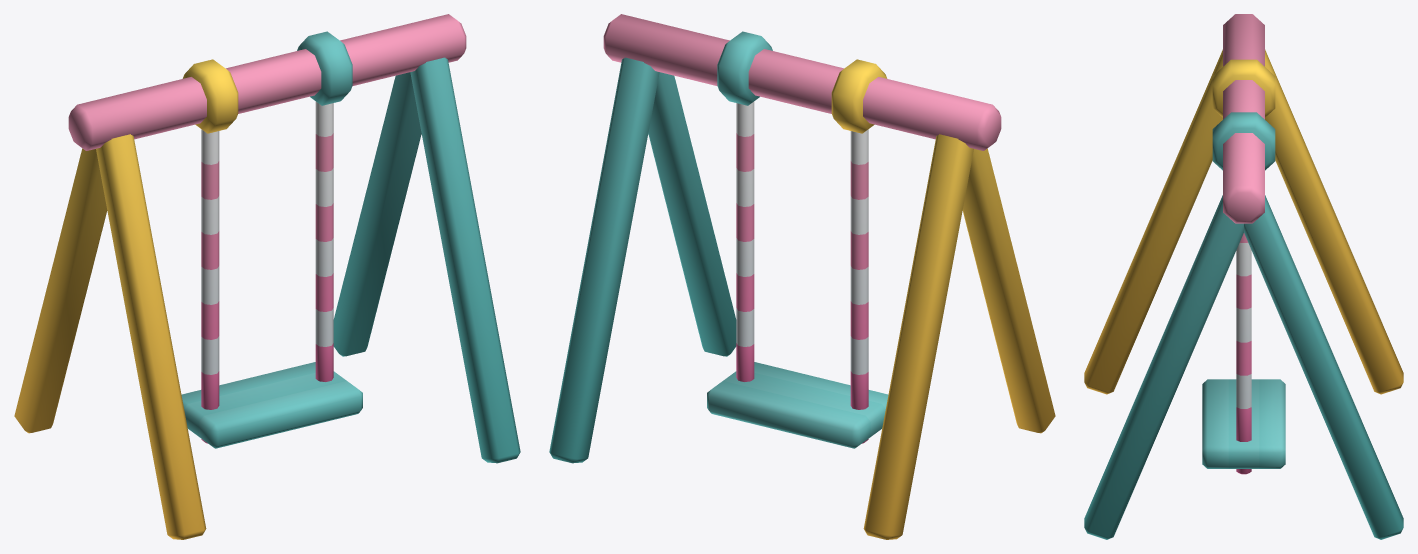
File: swing_B_small.glb
3 views of the same model, side by side, from view 1: azimuth 30°, elevation 25°; view 2: azimuth 150°, elevation 25°; view 3: azimuth 270°, elevation 25° (orthographic). The views are drawn at different scales.
Visible parts, largest first — view 1: swing_B_small, swing_B_small_seat; view 2: swing_B_small, swing_B_small_seat; view 3: swing_B_small, swing_B_small_seat.
Part boxes in pixels (x1,y1,x2,y2): swing_B_small: (14, 14, 520, 539); swing_B_small_seat: (181, 101, 362, 448); swing_B_small: (549, 14, 1055, 539); swing_B_small_seat: (707, 101, 888, 448); swing_B_small: (1084, 14, 1403, 539); swing_B_small_seat: (1202, 233, 1285, 474).
Bounding box in the file's own units: 4 × 3.94 × 3.06.
1 material, 1 textured.
